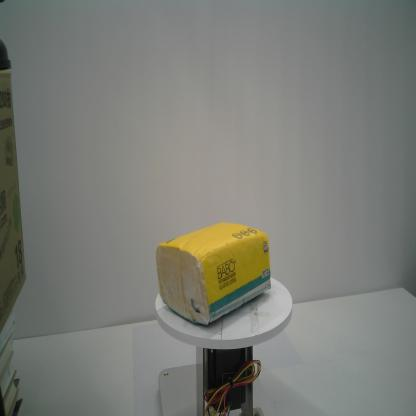Tissue: (155, 221, 272, 329)
